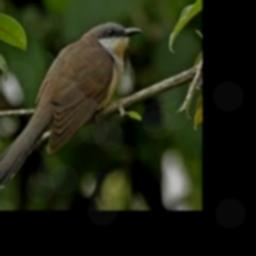Cuckoo: (0, 21, 143, 193)
